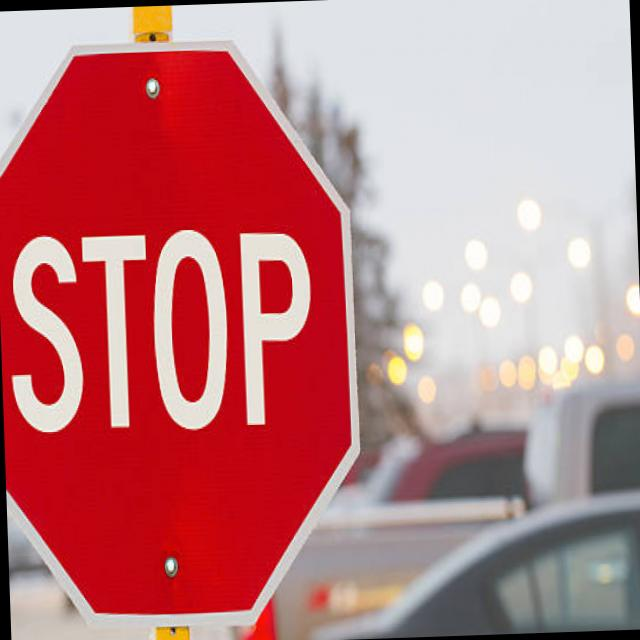stop: (0, 30, 371, 633)
